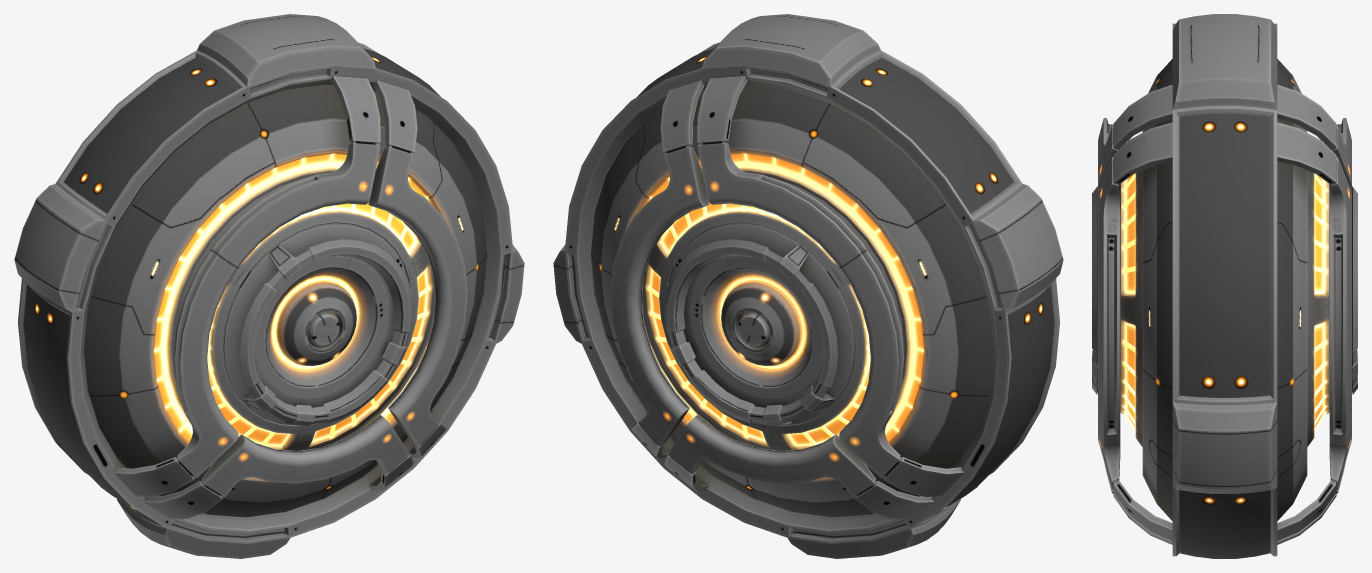
3 views of the same model, side by side, from view 1: azimuth 30°, elevation 25°; view 2: azimuth 150°, elevation 25°; view 3: azimuth 270°, elevation 25° (orthographic). The views are drawn at different scales.
Visible parts, largest first — view 1: energy_core_1_low; view 2: energy_core_1_low; view 3: energy_core_1_low.
Part boxes in pixels (left/top/right/bottom): energy_core_1_low: left=14, top=14, right=524, bottom=558; energy_core_1_low: left=553, top=14, right=1063, bottom=558; energy_core_1_low: left=1092, top=14, right=1357, bottom=558.
Bounding box in the file's own units: 1.83 × 1.87 × 0.8547.
Materials: 1 (1 with a texture image).
